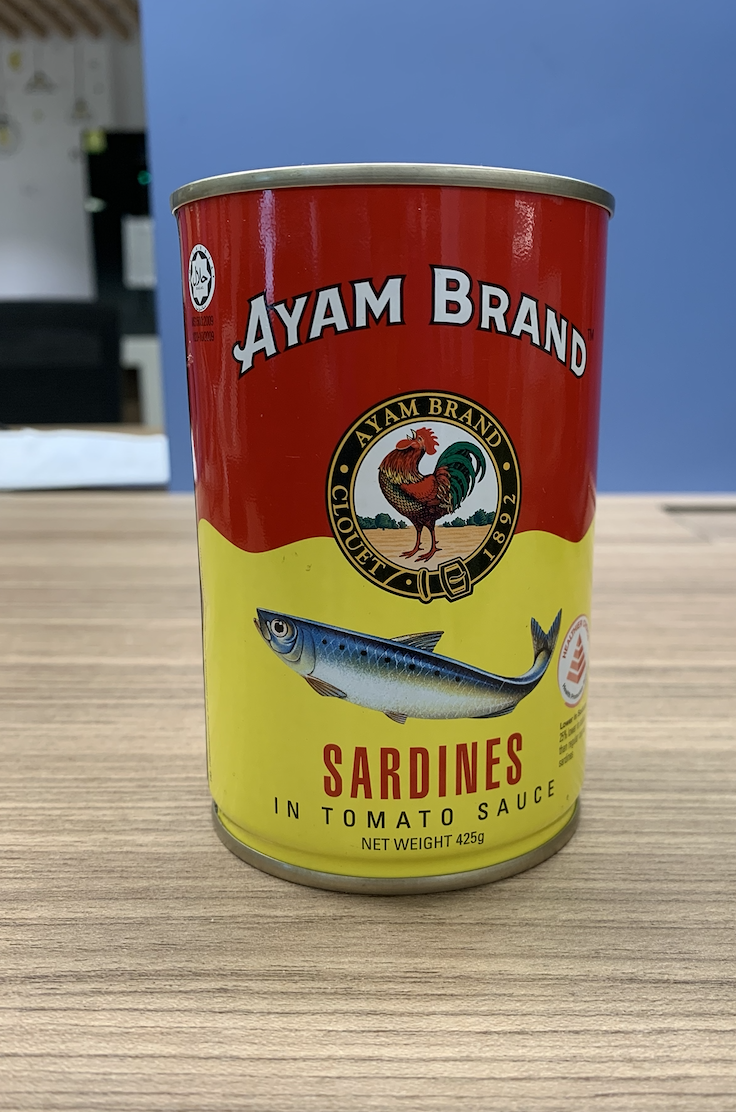sardines_400g-499g: (184, 207, 593, 854)
